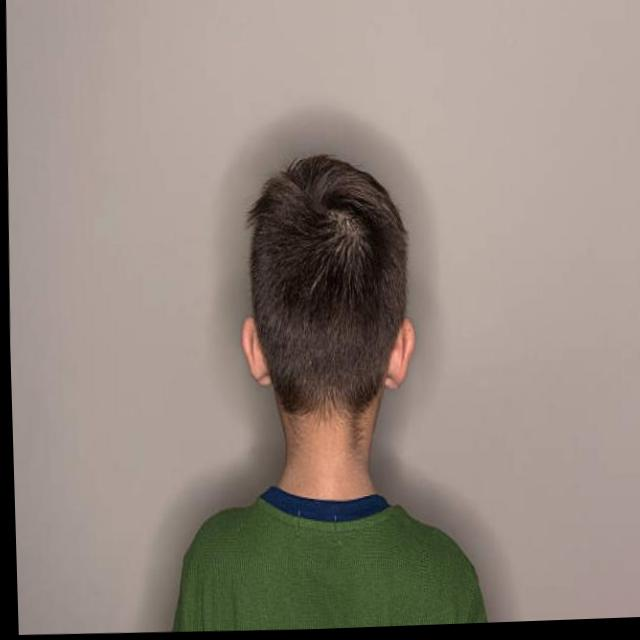no helmet: (233, 154, 422, 503)
